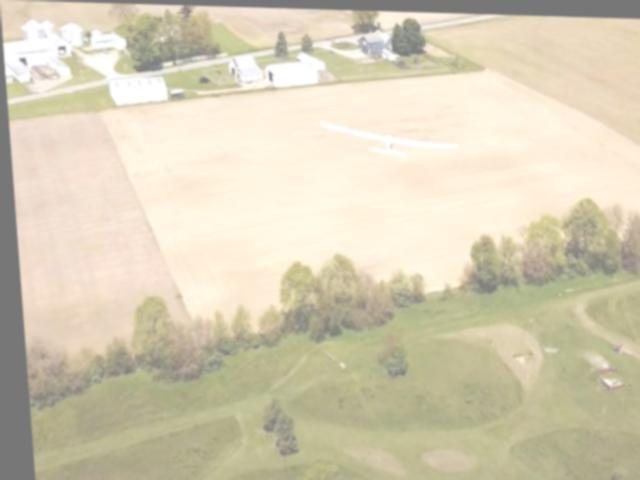iha: (321, 117, 459, 158)
